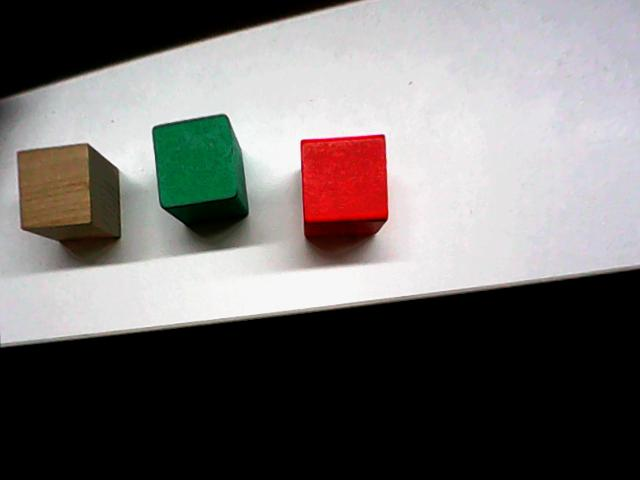green_box: (149, 110, 251, 229)
raw_box: (12, 140, 128, 252)
red_box: (296, 129, 392, 242)
